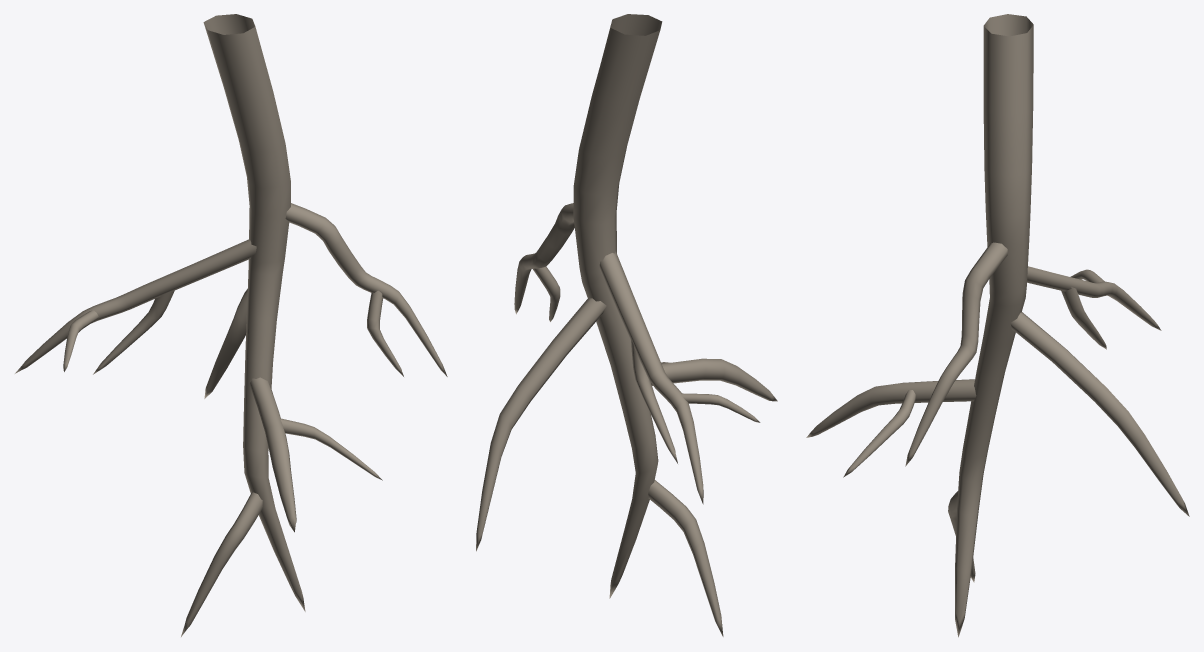
The model's file is prop_deadtree_b.glb.
3 renders of one model, left to right at view 1: azimuth 30°, elevation 25°; view 2: azimuth 150°, elevation 25°; view 3: azimuth 270°, elevation 25°, orthographic. The views are drawn at different scales.
Parts seen in each view (by area): view 1: DeadTree_5; view 2: DeadTree_5; view 3: DeadTree_5.
Part boxes in pixels (x1=…): DeadTree_5: x1=15, y1=14, x2=447, y2=636; DeadTree_5: x1=476, y1=14, x2=777, y2=636; DeadTree_5: x1=806, y1=14, x2=1189, y2=637.
Size of the model in its own units: 1.44 by 2.6 by 1.53.
